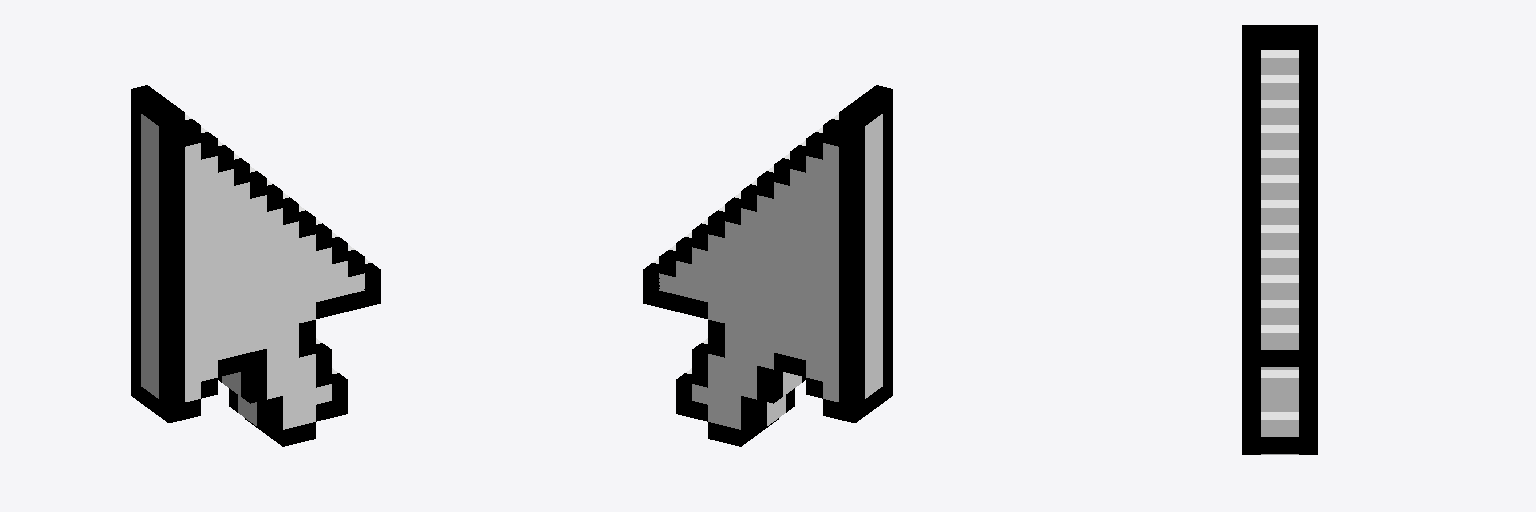
3 renders of one model, left to right at view 1: azimuth 30°, elevation 25°; view 2: azimuth 150°, elevation 25°; view 3: azimuth 270°, elevation 25°, orthographic.
Parts seen in each view (by area): view 1: object 1; view 2: object 1; view 3: object 1.
Part boxes in pixels (left/top/right/bottom): object 1: left=131, top=85, right=380, bottom=446; object 1: left=643, top=85, right=892, bottom=446; object 1: left=1242, top=25, right=1317, bottom=454.
Bounding box in the file's own units: 1.3 × 2.1 × 0.4.
Materials: 1 (1 with a texture image).